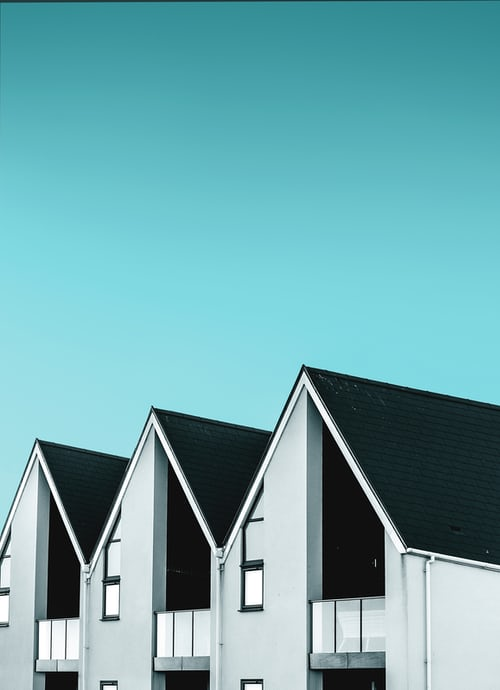house: (1, 381, 493, 690)
